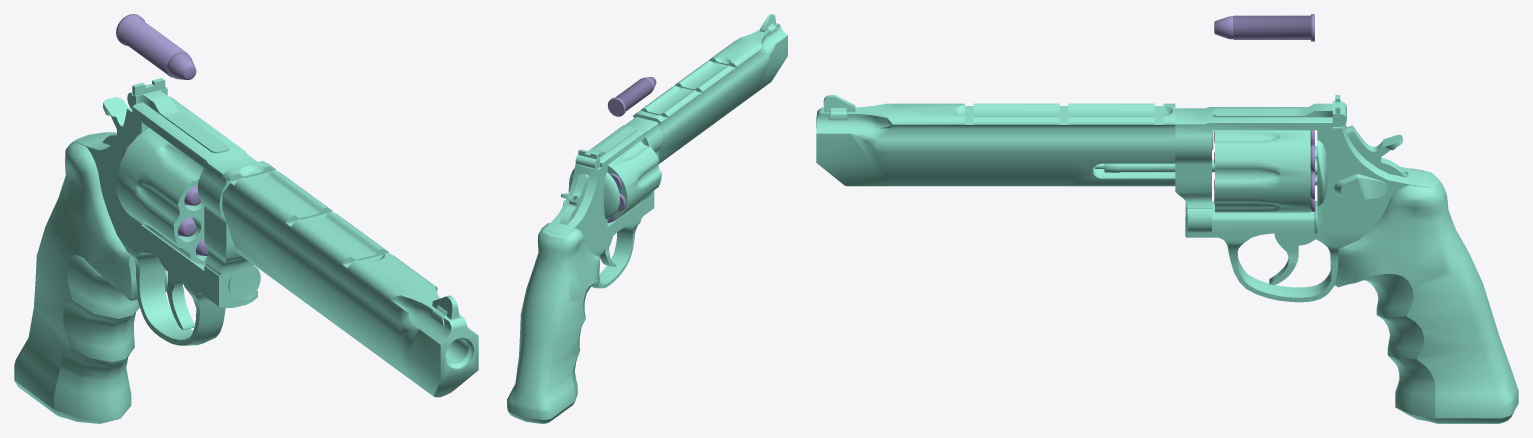
Rendered from WPN_Revolver.FBX.
3 renders of one model, left to right at view 1: azimuth 30°, elevation 25°; view 2: azimuth 150°, elevation 25°; view 3: azimuth 270°, elevation 25°, orthographic. The views are drawn at different scales.
Parts seen in each view (by area): view 1: WPN_Revolver, WPN_Revolver_drum, cal_357, WPN_Revolver_trigger, WPN_Revolver_hammer; view 2: WPN_Revolver, WPN_Revolver_drum, cal_357, WPN_Revolver_hammer; view 3: WPN_Revolver, WPN_Revolver_drum, cal_357, WPN_Revolver_hammer, WPN_Revolver_trigger.
Boxes of the visible parts, x1,y1,x2,y2 form: WPN_Revolver: (14, 78, 478, 423); WPN_Revolver_drum: (116, 128, 260, 300); cal_357: (116, 14, 196, 79); WPN_Revolver_trigger: (158, 257, 194, 329); WPN_Revolver_hammer: (102, 97, 128, 145); WPN_Revolver: (507, 14, 787, 423); WPN_Revolver_drum: (569, 141, 661, 222); cal_357: (607, 77, 656, 116); WPN_Revolver_hammer: (560, 174, 589, 224); WPN_Revolver: (816, 95, 1518, 423); WPN_Revolver_drum: (1095, 130, 1317, 232); cal_357: (1214, 14, 1314, 41); WPN_Revolver_hammer: (1345, 125, 1406, 177); WPN_Revolver_trigger: (1269, 233, 1315, 284).
Size of the model in its own units: 3.75 by 17 by 28.18.
